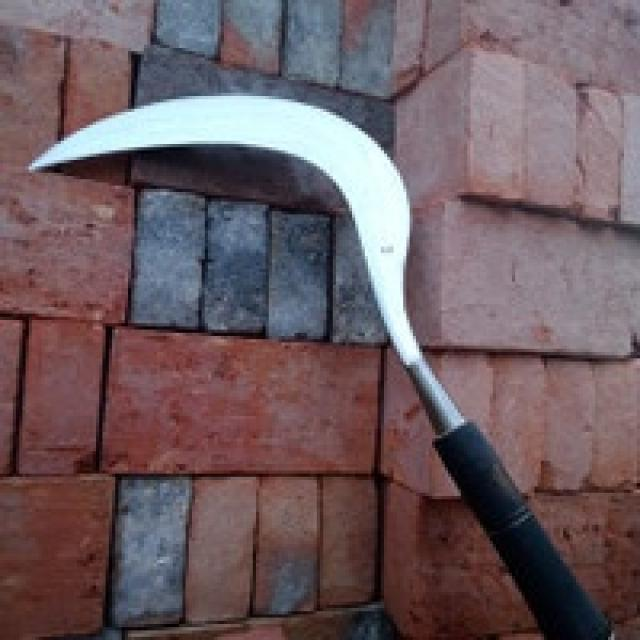Celurit: (27, 92, 611, 640)
